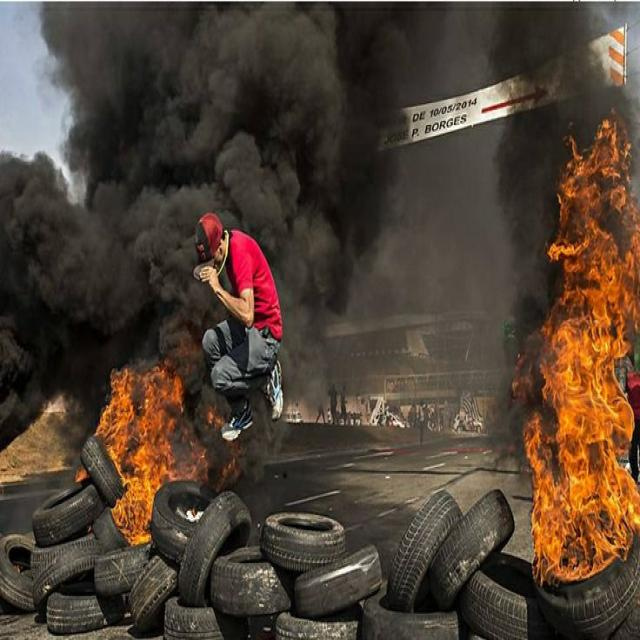fire: (524, 330, 640, 587), (548, 119, 640, 330), (106, 435, 178, 546), (95, 366, 183, 436)
